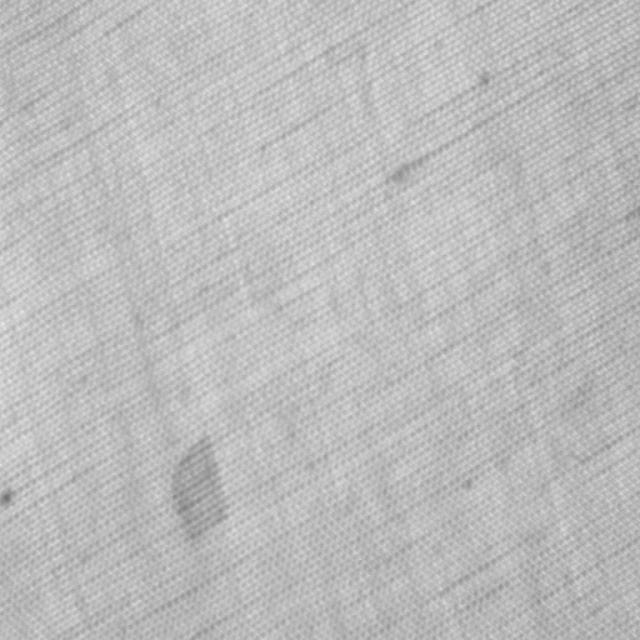oil spot: (166, 428, 232, 546)
